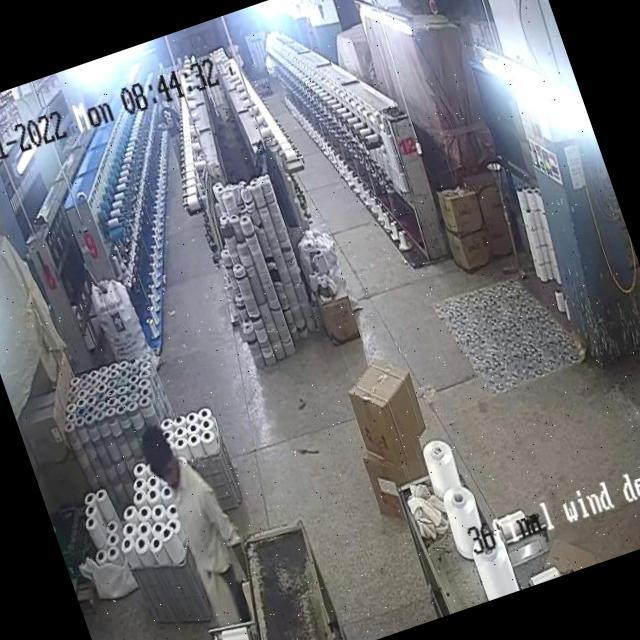person: (137, 407, 252, 602), (152, 89, 192, 158), (229, 37, 256, 84)
